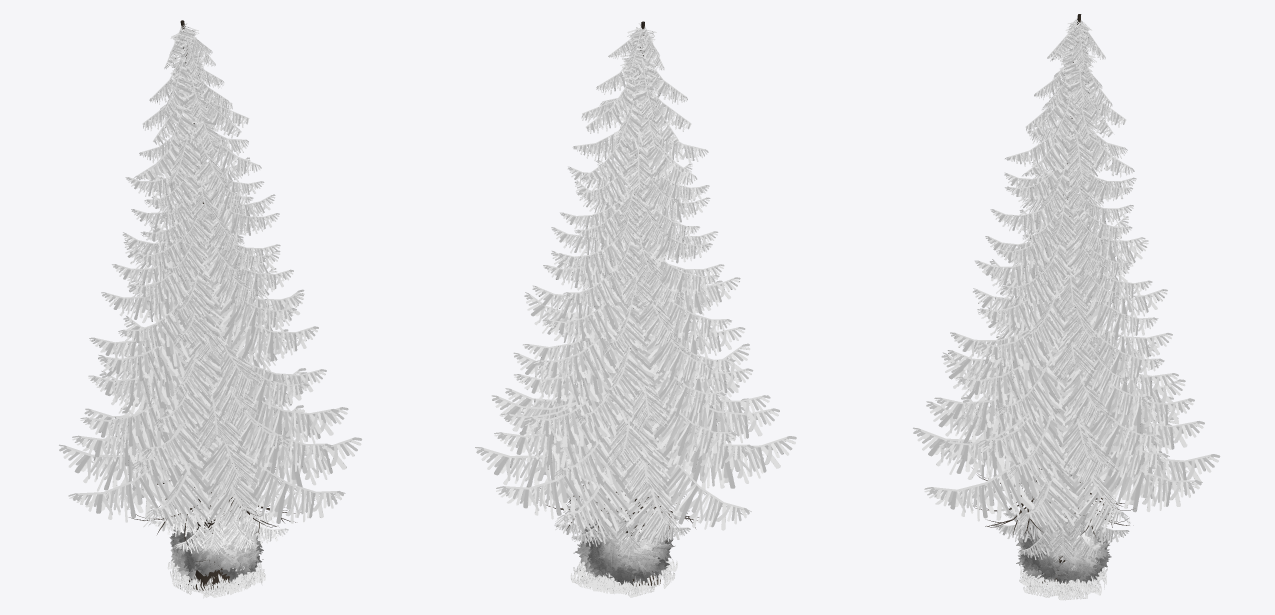
File: prototypes.glb
3 views of the same model, side by side, from view 1: azimuth 30°, elevation 25°; view 2: azimuth 150°, elevation 25°; view 3: azimuth 270°, elevation 25° (orthographic). The views are drawn at different scales.
Parts seen in each view (by area): view 1: prototype-3, prototype-2, prototype-0, prototype-1; view 2: prototype-3, prototype-0, prototype-2, prototype-1; view 3: prototype-3, prototype-2, prototype-0, prototype-1.
Boxes of the visible parts, x1=… form: prototype-3: x1=59, y1=20, x2=361, y2=590; prototype-2: x1=151, y1=445, x2=288, y2=571; prototype-0: x1=169, y1=516, x2=263, y2=582; prototype-1: x1=168, y1=560, x2=265, y2=598; prototype-3: x1=475, y1=21, x2=796, y2=586; prototype-0: x1=573, y1=519, x2=674, y2=584; prototype-2: x1=554, y1=444, x2=690, y2=569; prototype-1: x1=570, y1=558, x2=677, y2=597; prototype-3: x1=913, y1=14, x2=1220, y2=584; prototype-2: x1=992, y1=375, x2=1129, y2=578; prototype-0: x1=1016, y1=523, x2=1111, y2=583; prototype-1: x1=1019, y1=565, x2=1107, y2=600.
Bounding box in the file's own units: 7.9 × 12.47 × 8.07.
Materials: 6 (6 with a texture image).
